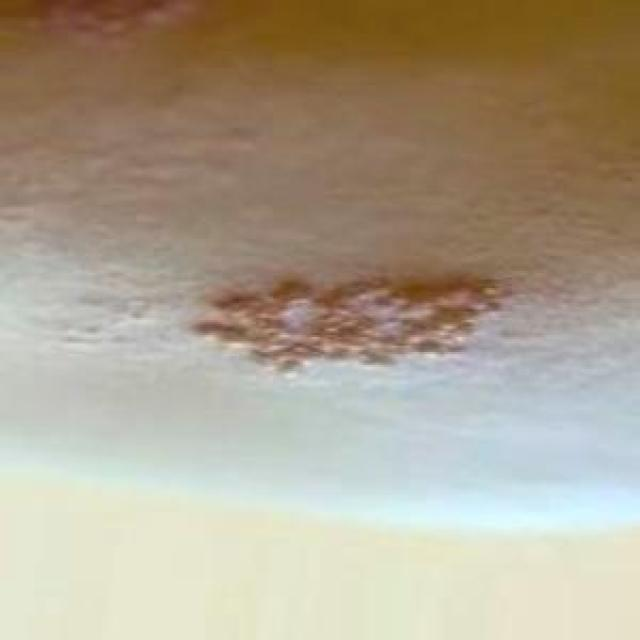Shingles: (191, 268, 505, 392)
